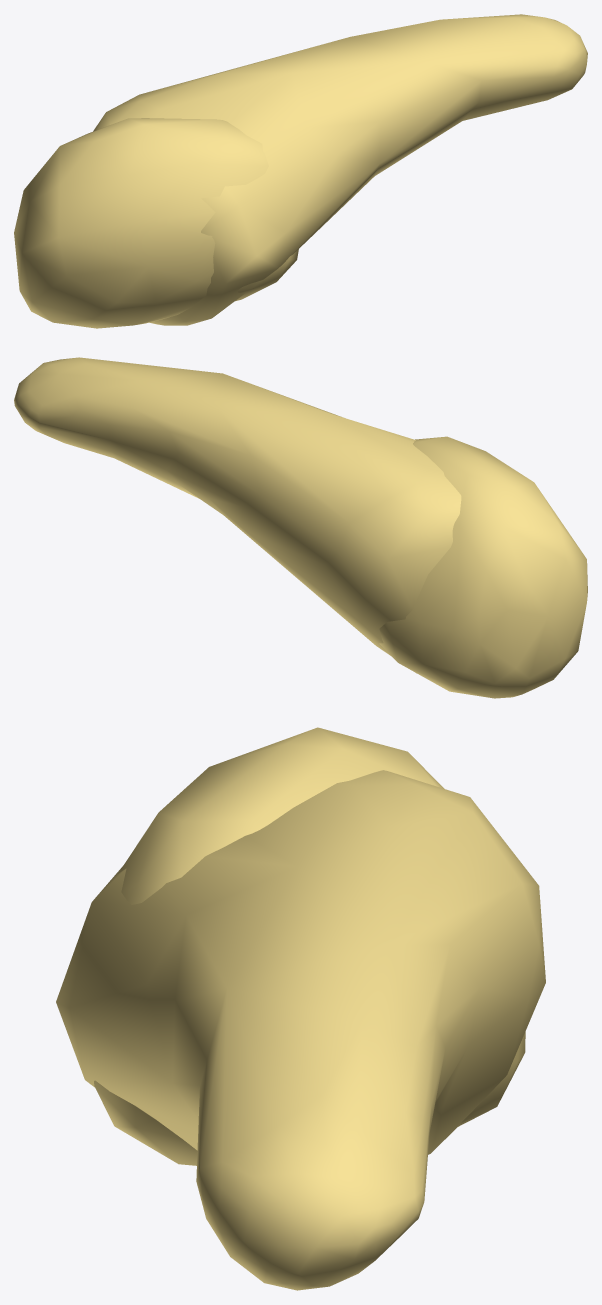
3 renders of one model, top to bottom at view 1: azimuth 30°, elevation 25°; view 2: azimuth 150°, elevation 25°; view 3: azimuth 270°, elevation 25°, orthographic. The views are drawn at different scales.
Parts seen in each view (by area): view 1: ZA_5cfa60caf803e780; view 2: ZA_5cfa60caf803e780; view 3: ZA_5cfa60caf803e780.
Part boxes in pixels (x1,y1,x2,y2): ZA_5cfa60caf803e780: [14, 14, 587, 328]; ZA_5cfa60caf803e780: [14, 357, 587, 698]; ZA_5cfa60caf803e780: [56, 727, 545, 1290].
Size of the model in its own units: 0.017 by 0.00639 by 0.00647.
